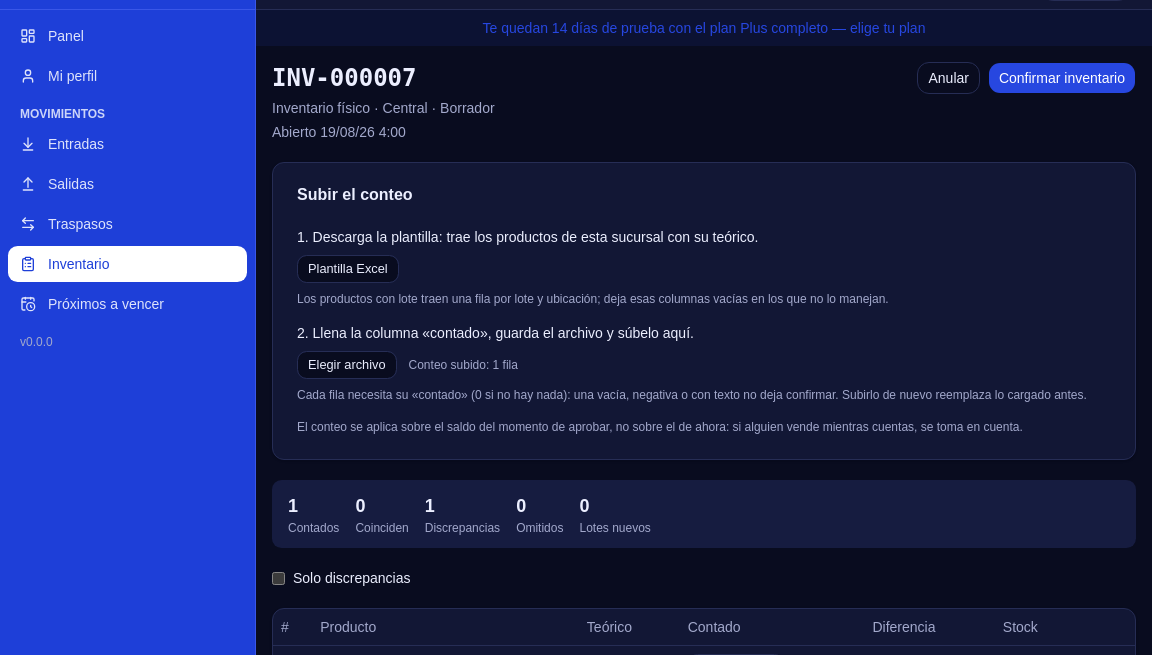
Test case: Inventario físico: reconciliación y aprobación (F3-COUNT-05) › tras aprobar con deriva, se advierte
Click the button "Confirmar inventario".
click(1062, 78)  # box left=988, top=62, right=1136, bottom=94
(page scrolled)
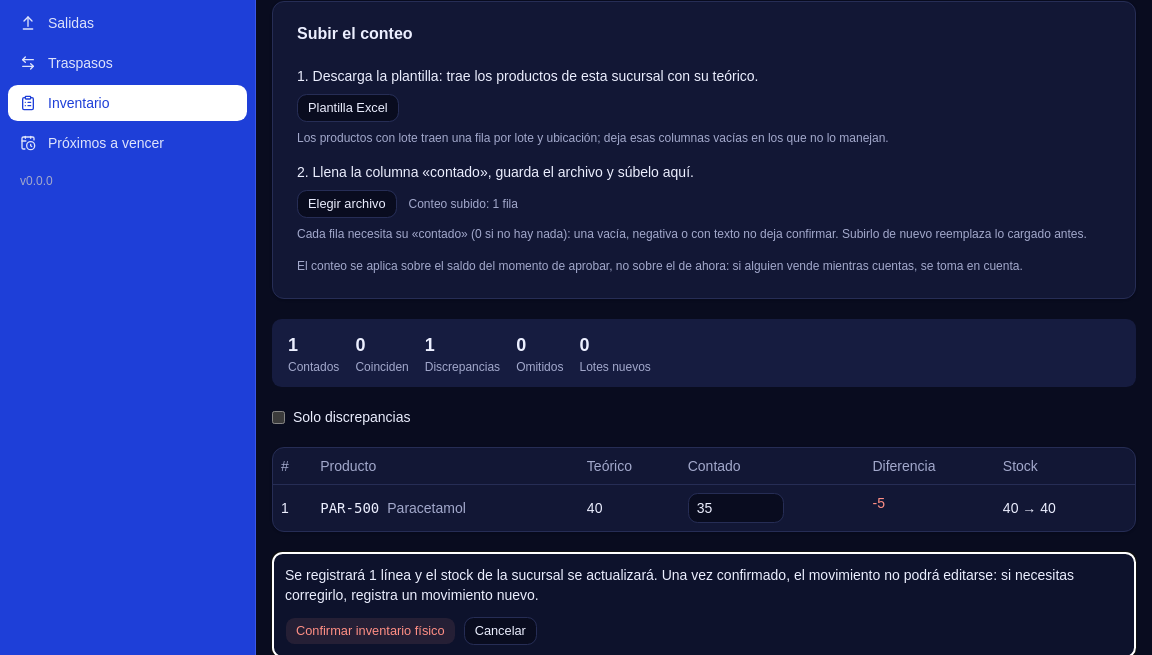
Click the button "Confirmar inventario físico".
click(370, 631)  # box left=285, top=617, right=456, bottom=645
(page scrolled)
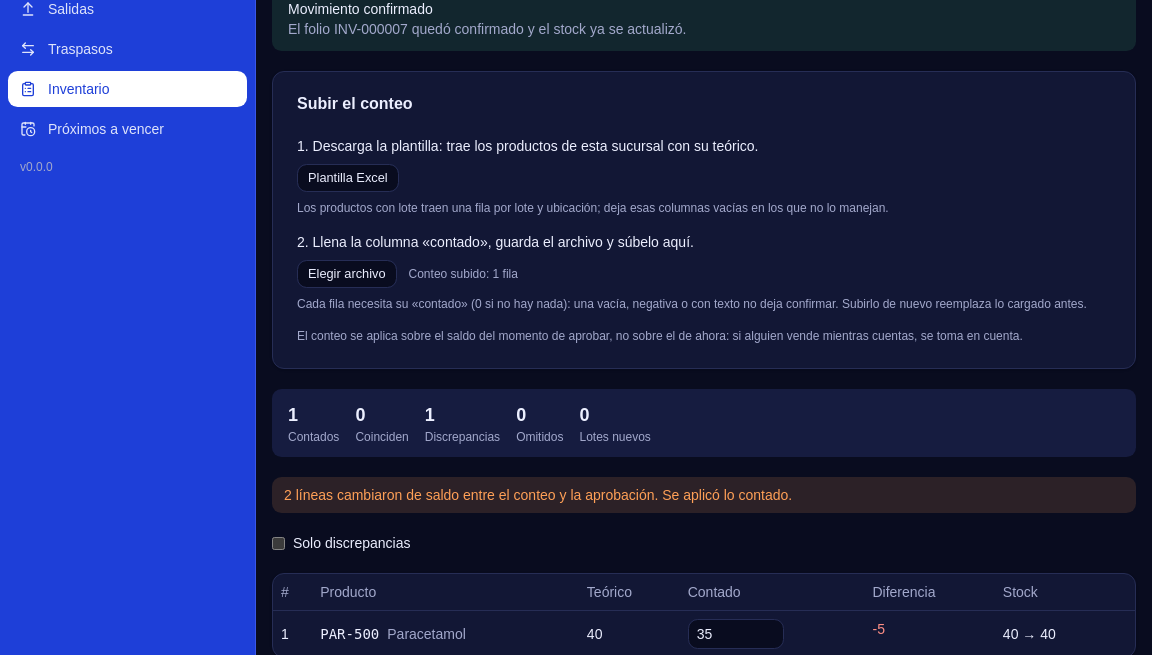
Check: the text "2 líneas cambiaron" is shown, box left=284, top=487, right=792, bottom=503
